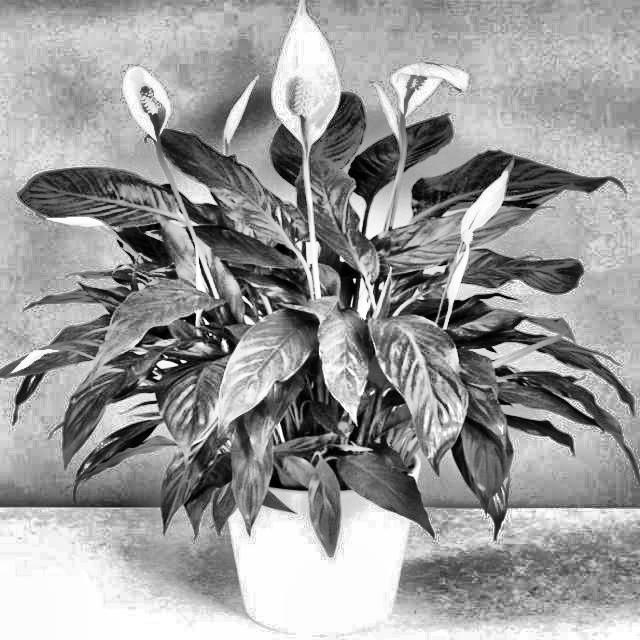plants: (19, 9, 626, 534)
